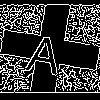A: (25, 25, 66, 76)
